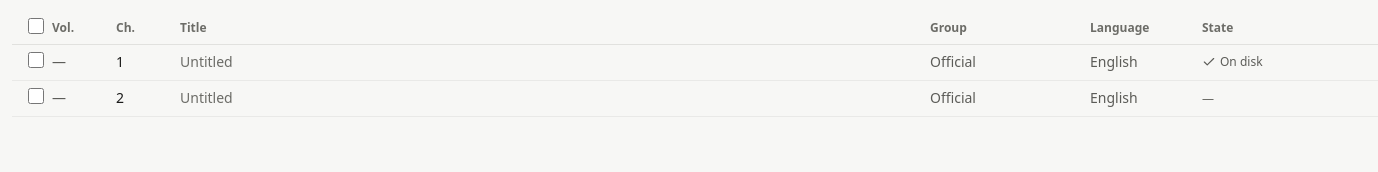
chapters table with a group filter › select all takes only the visible group
The width and height of the screenshot is (1378, 172).
expect the number of rows is 3: met, box [12,12,1377,44]; [12,44,1377,80]; [12,80,1377,116]
Click the checkbox named "Select all chapters" at (36, 26), box [28,18,44,34]
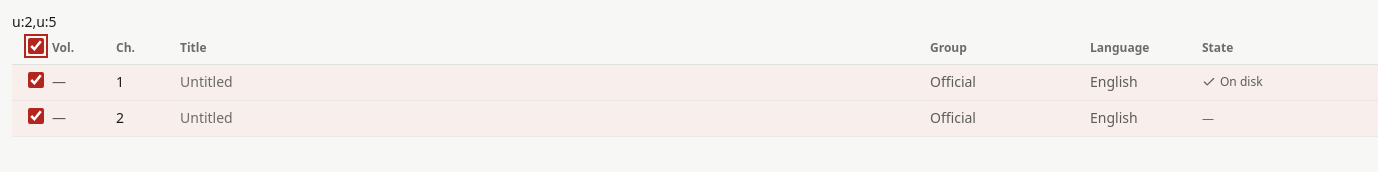
expect the text with test id "picked" reads "u:2,u:5": met, box [12,12,57,31]
